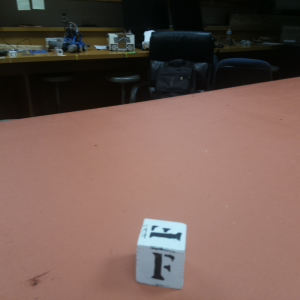blockF: (135, 217, 189, 292)
